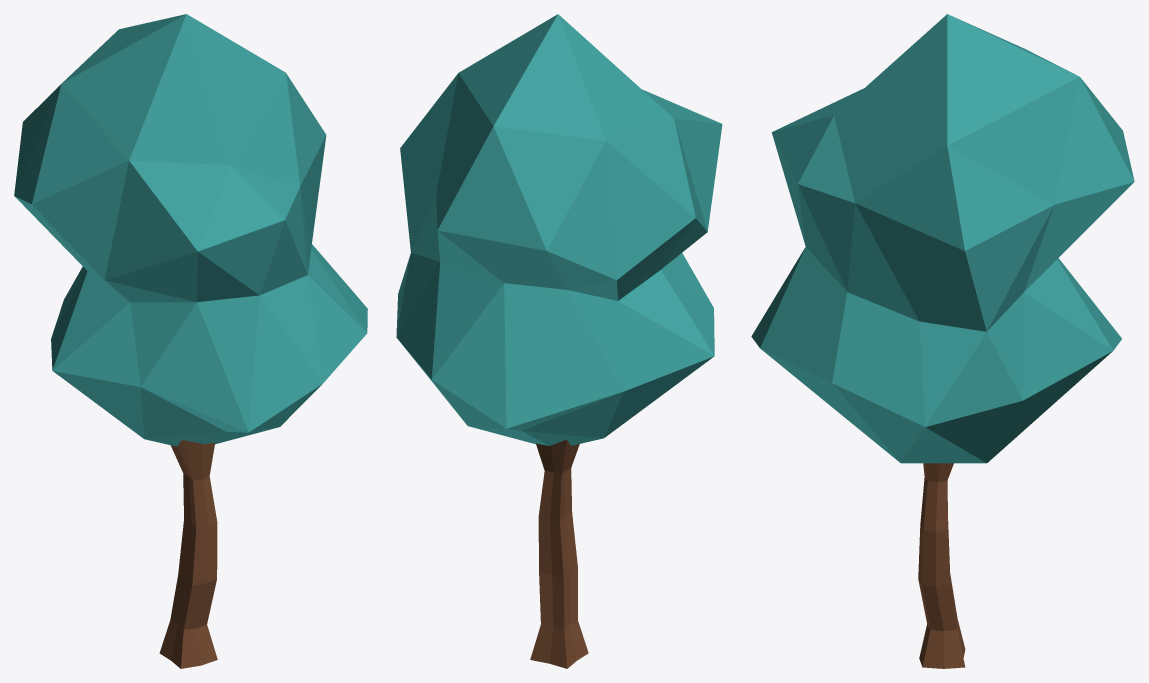
File: Tree_42_Blue.fbx
3 renders of one model, left to right at view 1: azimuth 30°, elevation 25°; view 2: azimuth 150°, elevation 25°; view 3: azimuth 270°, elevation 25°, orthographic.
Parts seen in each view (by area): view 1: Tree_42_Blue_Part_1, Tree_42_Blue_Part_2; view 2: Tree_42_Blue_Part_1, Tree_42_Blue_Part_2; view 3: Tree_42_Blue_Part_1, Tree_42_Blue_Part_2.
Boxes of the visible parts, <box> form: Tree_42_Blue_Part_1: <box>14,14,367,446</box>; Tree_42_Blue_Part_2: <box>159,440,217,668</box>; Tree_42_Blue_Part_1: <box>396,14,722,445</box>; Tree_42_Blue_Part_2: <box>530,439,588,668</box>; Tree_42_Blue_Part_1: <box>751,14,1134,463</box>; Tree_42_Blue_Part_2: <box>918,463,965,668</box>.
Bounding box in the file's own units: 411 × 797 × 430.
